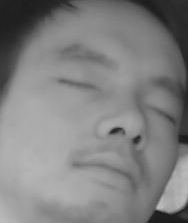blink: (56, 72, 95, 94), (147, 99, 176, 125)
mouth: (74, 146, 141, 196)
